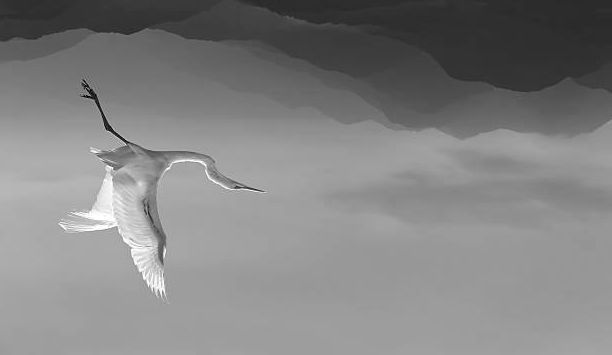Bird: (58, 77, 269, 305)
